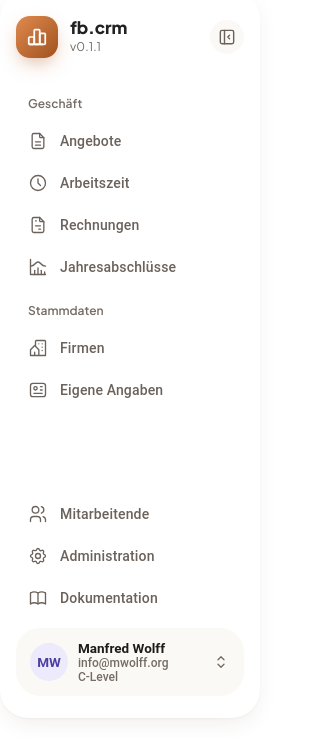
Test case: NavRail › zeichnet „Firmen" und „Eigene Angaben" mit verschiedenen Symbolen (E24)
Click the button named "Einklappen".
click(227, 37)  # box [210, 20, 244, 54]
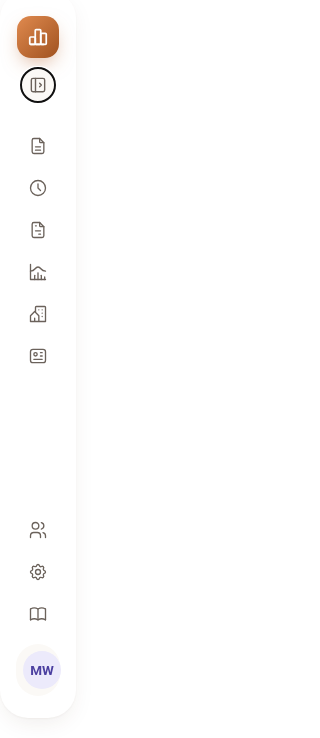
Now the link "Firmen" is gone
